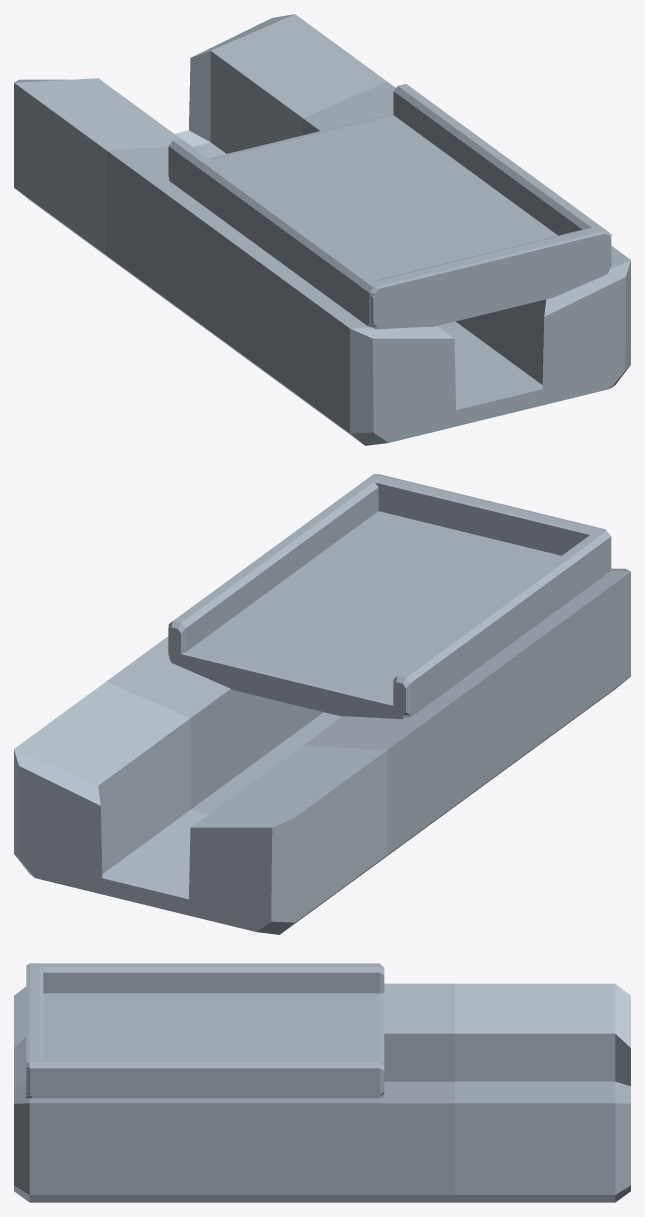
Rendered from pillar_transport_a.glb.
3 views of the same model, one above another, from view 1: azimuth 30°, elevation 25°; view 2: azimuth 150°, elevation 25°; view 3: azimuth 270°, elevation 25° (orthographic). The views are drawn at different scales.
Visible parts, largest first — view 1: pillar_transport_a; view 2: pillar_transport_a; view 3: pillar_transport_a.
Part boxes in pixels (box(x1,y1,x2,y2)): pillar_transport_a: box(14, 14, 630, 445); pillar_transport_a: box(14, 474, 630, 934); pillar_transport_a: box(14, 963, 630, 1202).
Bounding box in the file's own units: 3.9 × 2.07 × 8.5.
